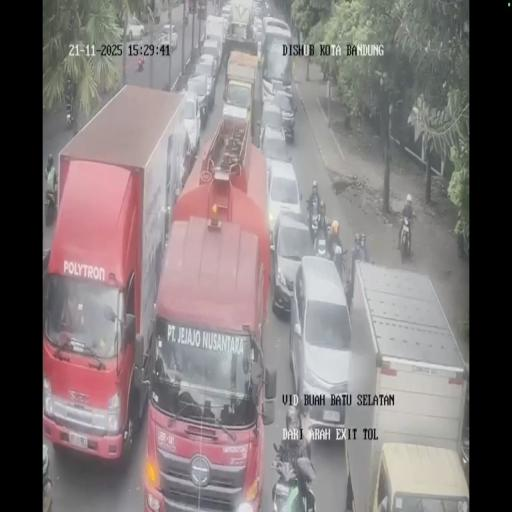3: (43, 84, 193, 464), (334, 261, 468, 512), (222, 50, 260, 142), (260, 16, 292, 84)
car: (265, 158, 301, 241), (258, 100, 287, 154), (180, 92, 202, 159), (192, 58, 216, 110), (262, 75, 288, 107), (204, 28, 224, 64), (123, 17, 145, 41), (161, 23, 178, 45), (252, 16, 264, 45), (220, 3, 232, 28), (251, 0, 263, 19)
truck: (398, 211, 414, 262), (333, 245, 347, 285), (308, 209, 320, 245), (65, 104, 75, 131), (183, 12, 189, 26)
